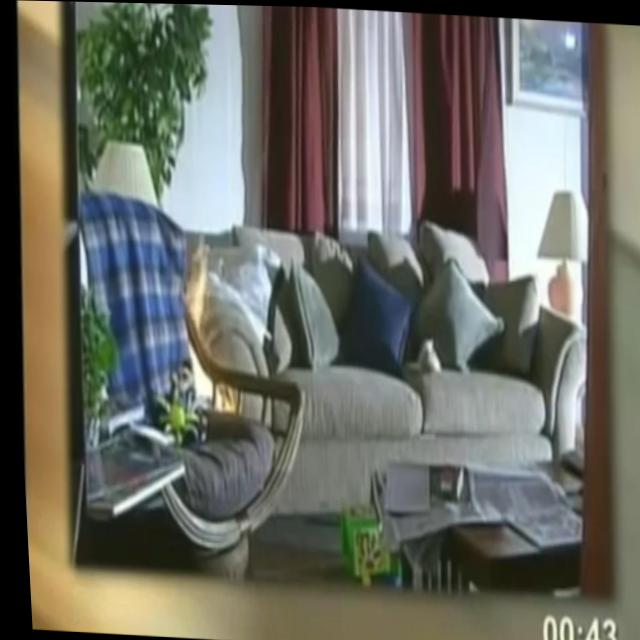fire: (177, 244, 236, 409)
